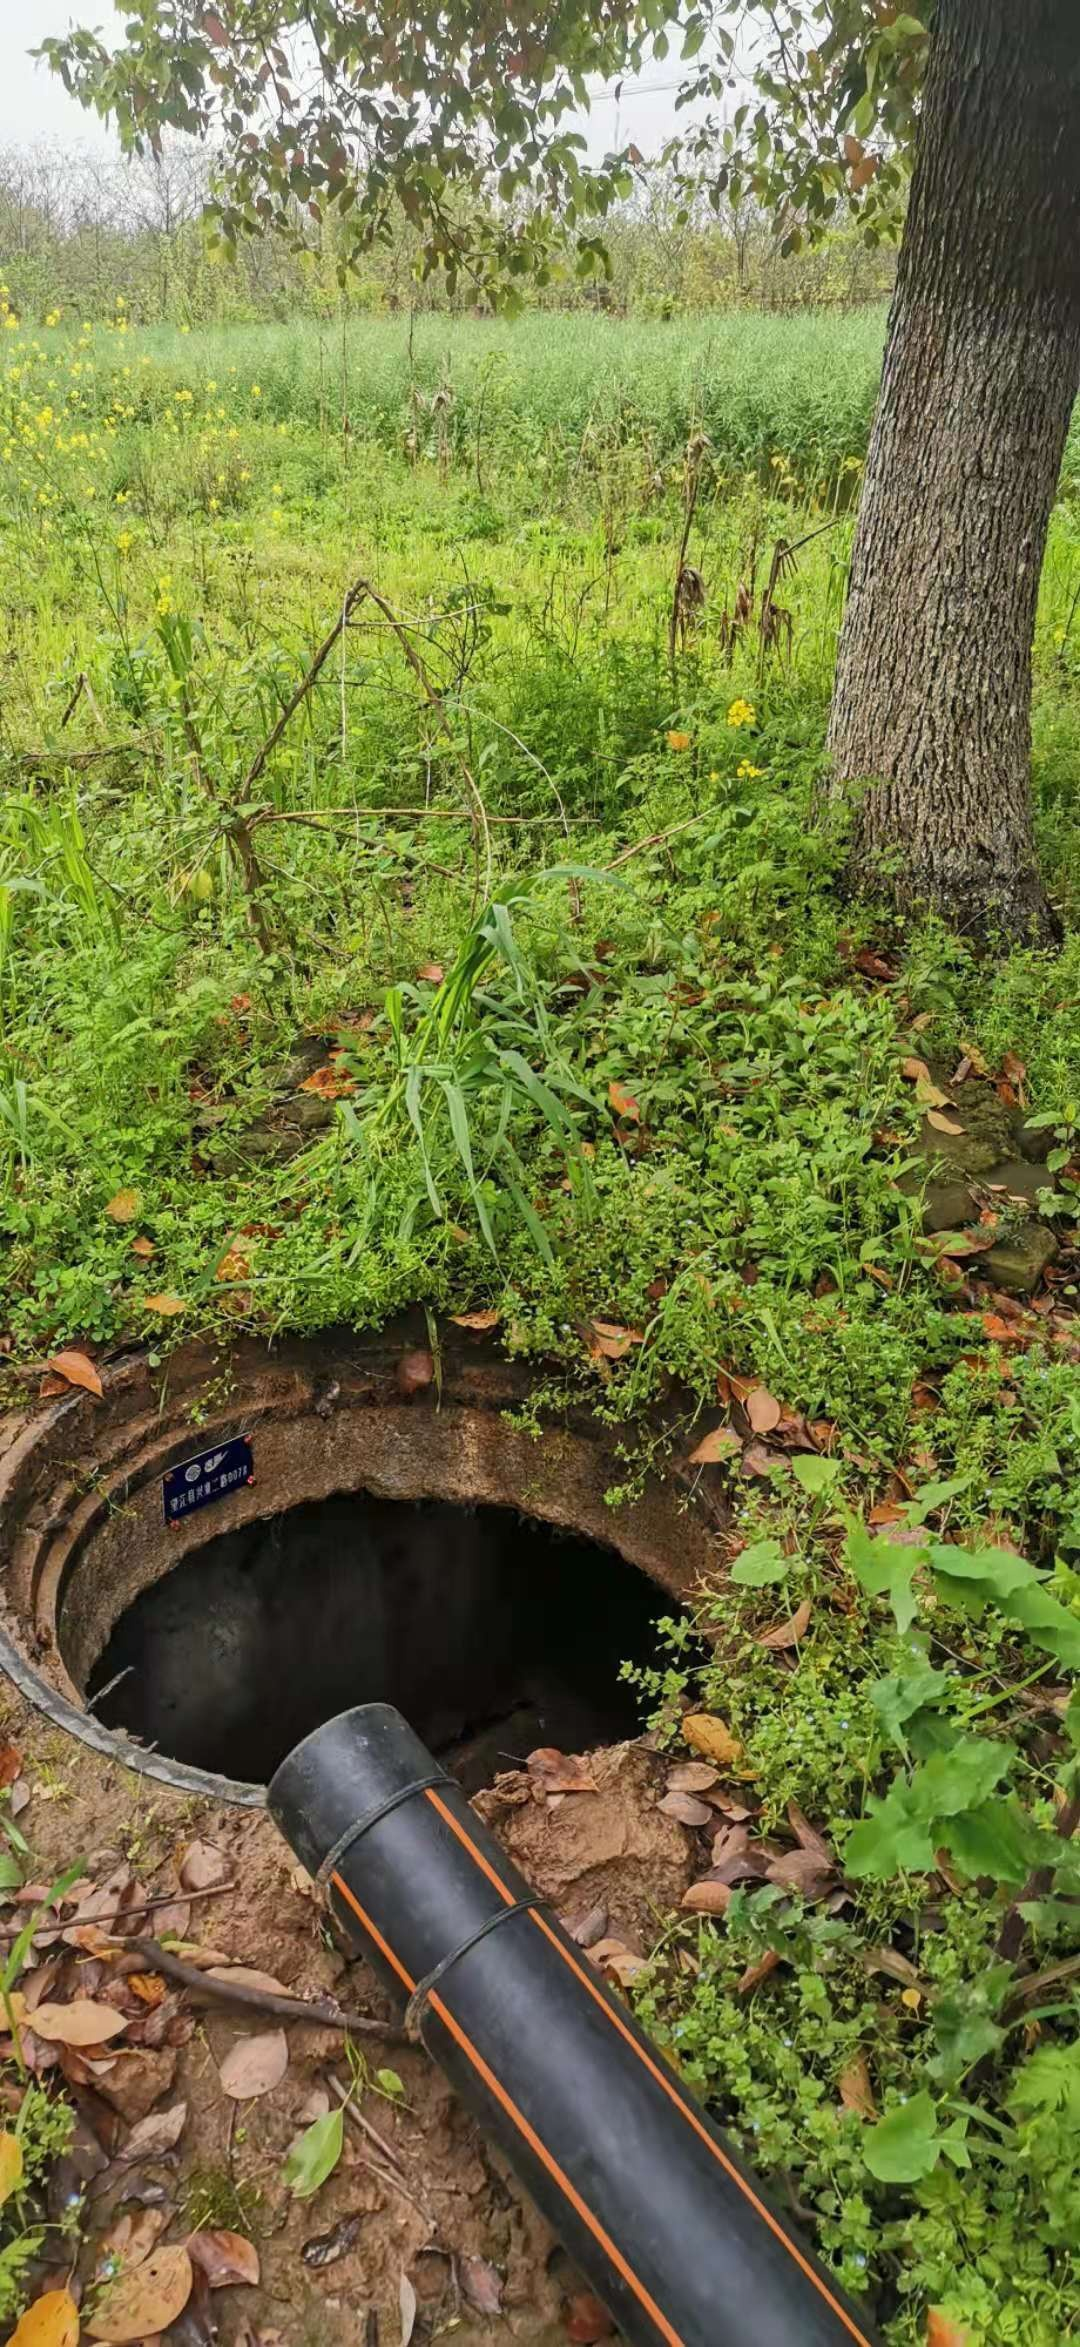lose: (3, 1316, 793, 1816)
